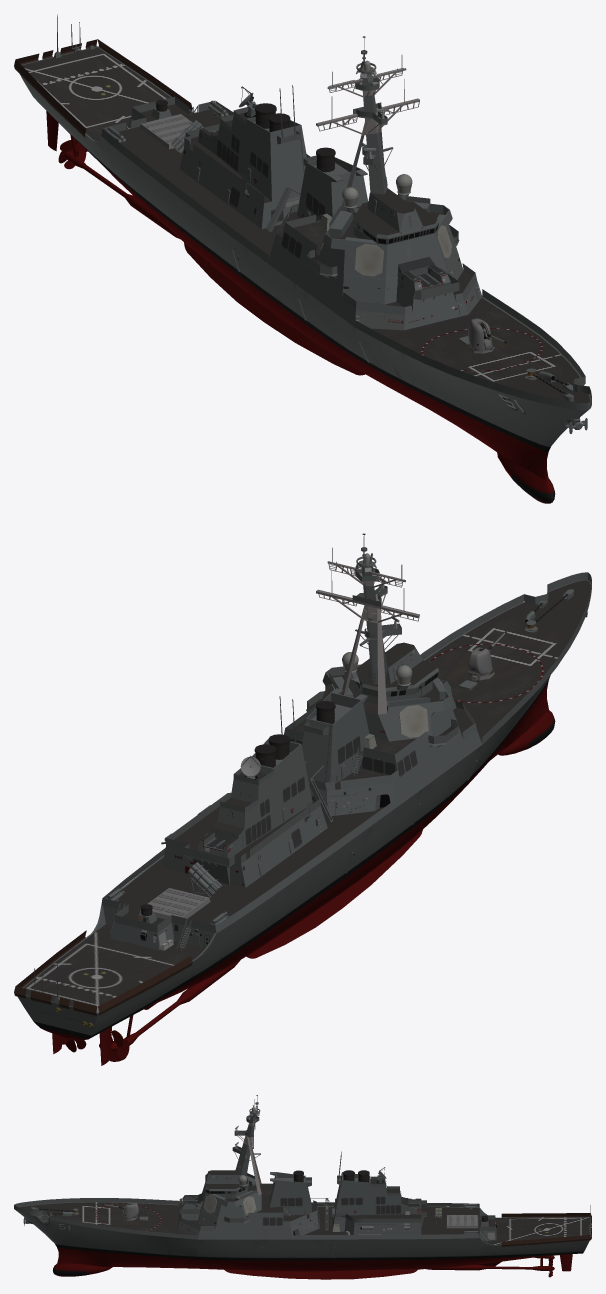
File: DDG51.fbx
The picture shows the model from 3 angles, top to bottom: view 1: azimuth 30°, elevation 25°; view 2: azimuth 150°, elevation 25°; view 3: azimuth 270°, elevation 25°; orthographic projection. The views are drawn at different scales.
Parts seen in each view (by area): view 1: SPG62_FINAL2; view 2: SPG62_FINAL2; view 3: SPG62_FINAL2.
Boxes of the visible parts, x1=… form: SPG62_FINAL2: x1=14, y1=14, x2=591, y2=503; SPG62_FINAL2: x1=14, y1=533, x2=591, y2=1065; SPG62_FINAL2: x1=14, y1=1095, x2=591, y2=1279.
Bounding box in the file's own units: 6.48 × 14.87 × 42.79.
